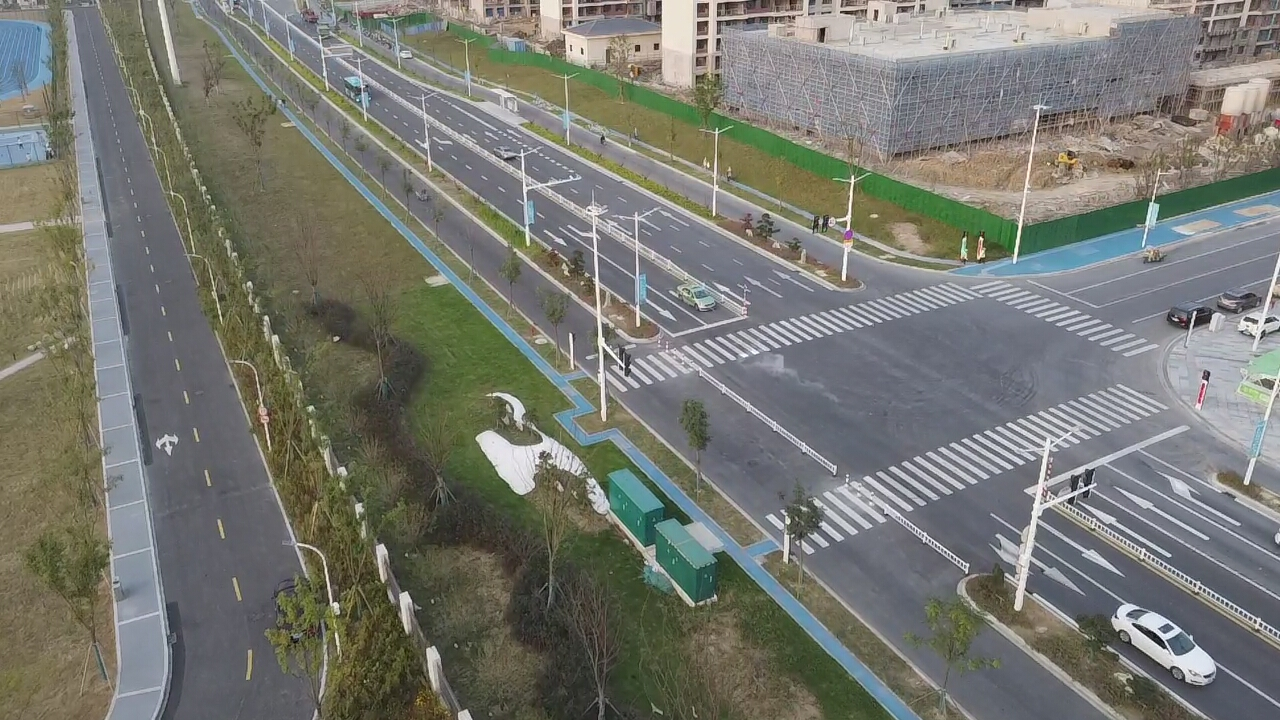bus: (338, 69, 378, 103)
car: (1108, 597, 1220, 688), (270, 578, 320, 628), (670, 282, 713, 316), (1161, 301, 1218, 326), (1240, 310, 1277, 338), (1216, 285, 1261, 308), (495, 144, 522, 160)
person: (1142, 243, 1165, 267)
